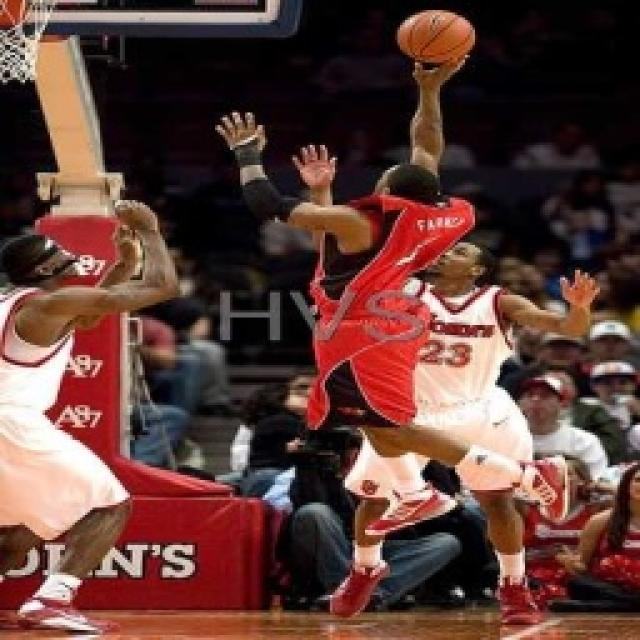basketball: (394, 6, 478, 66)
